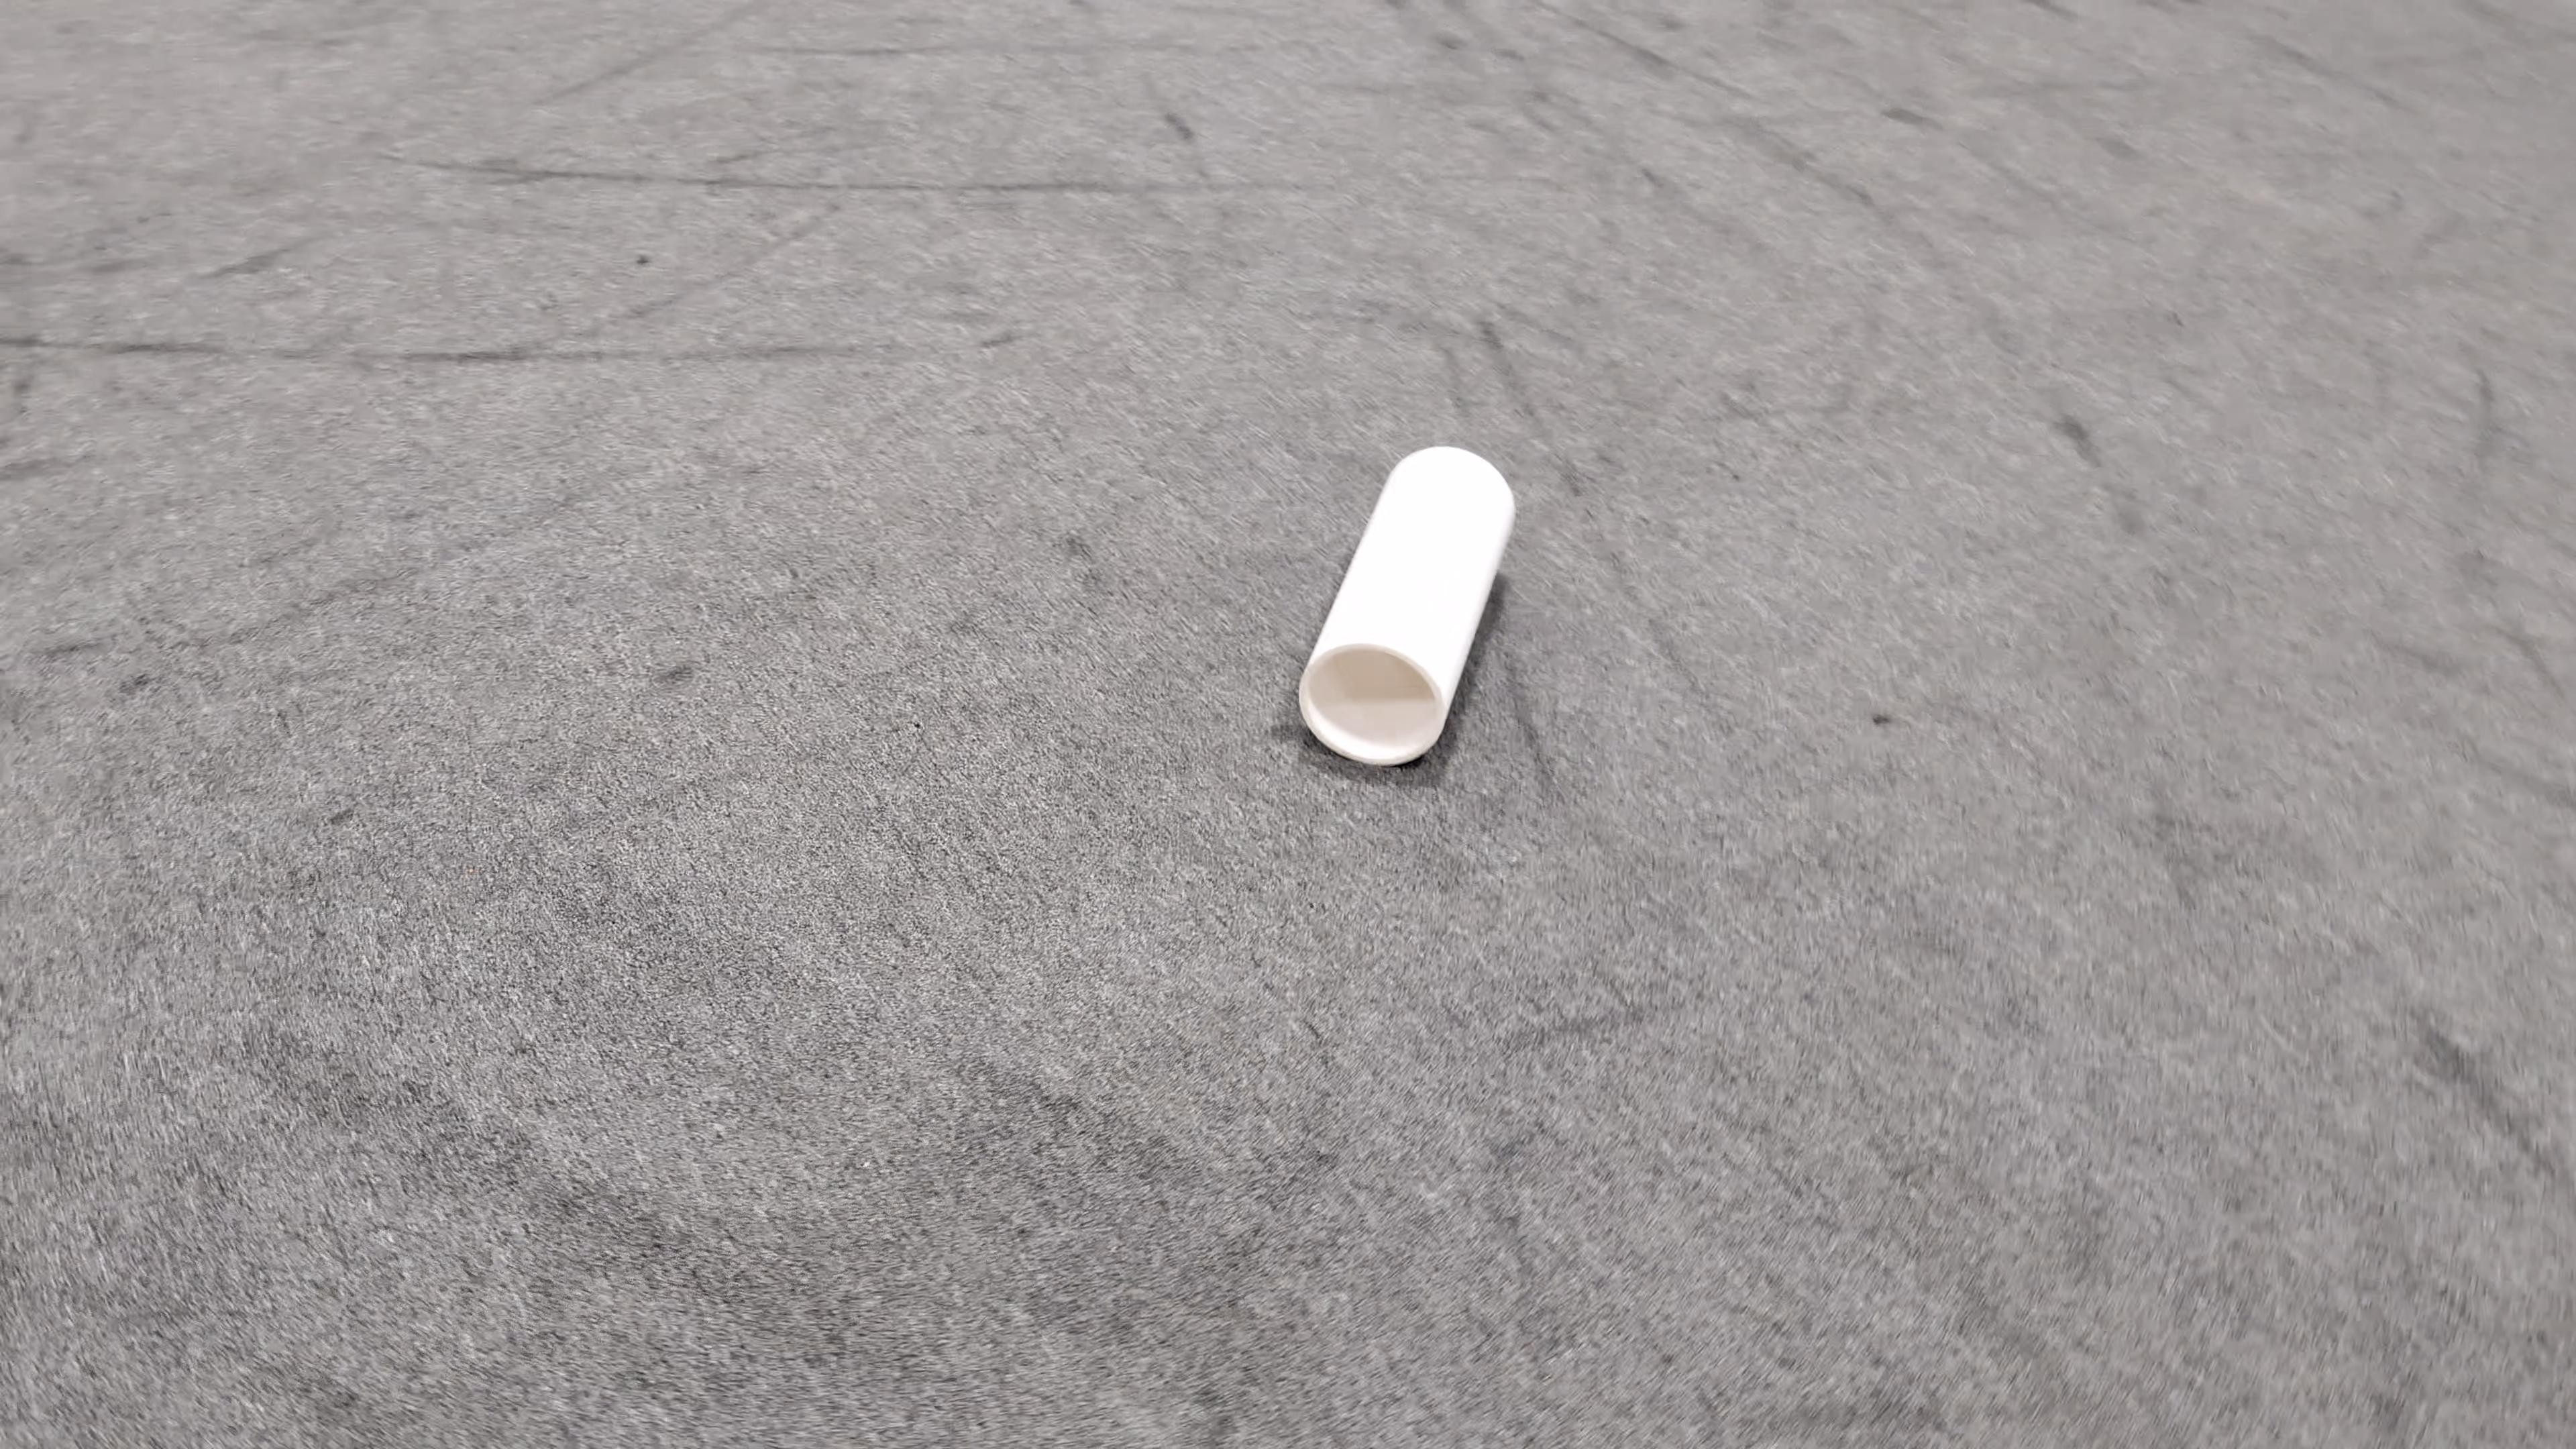coral: (1295, 441, 1518, 764)
